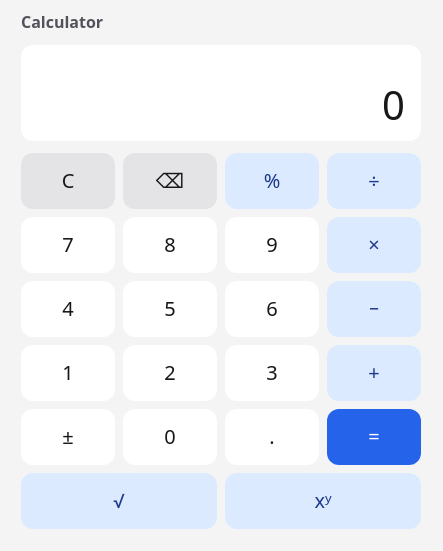
Scenario: App › keeps the pending operation across √: 9 + √16 = shows 13
The image size is (443, 551).
Click the button "9": (272, 245) x1=225 y1=217 x2=319 y2=273
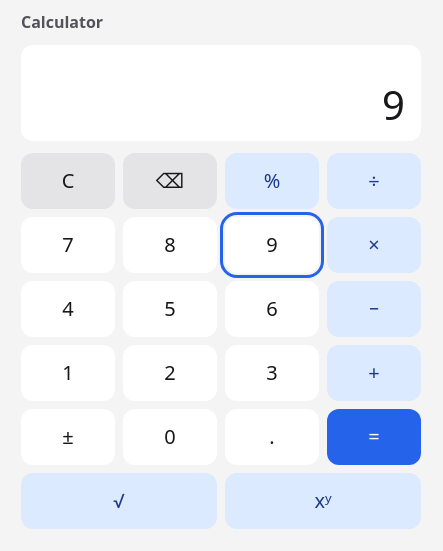
Click the button named "add": (374, 373) x1=327 y1=345 x2=421 y2=401
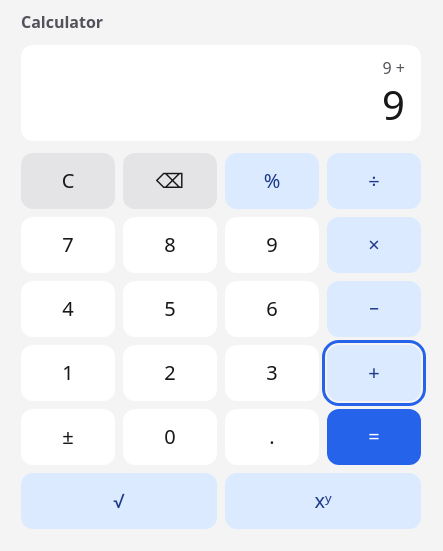
Click the button "1": (68, 373) x1=21 y1=345 x2=115 y2=401
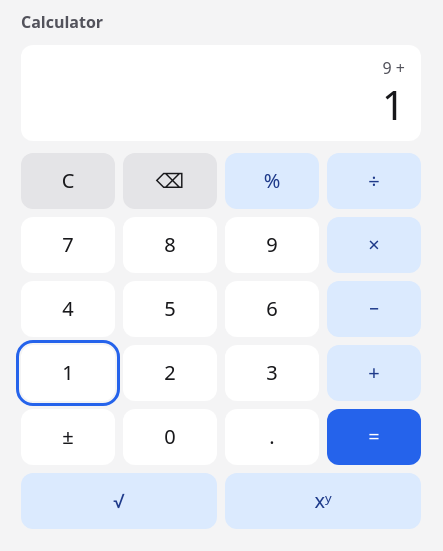
Click the button "6": (272, 309) x1=225 y1=281 x2=319 y2=337
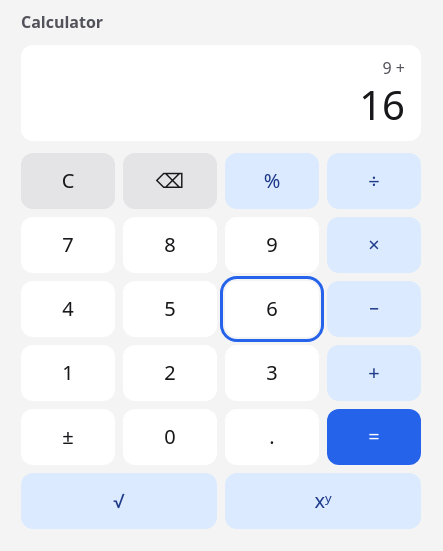
Click the button named "square root": (119, 501) x1=21 y1=473 x2=217 y2=529
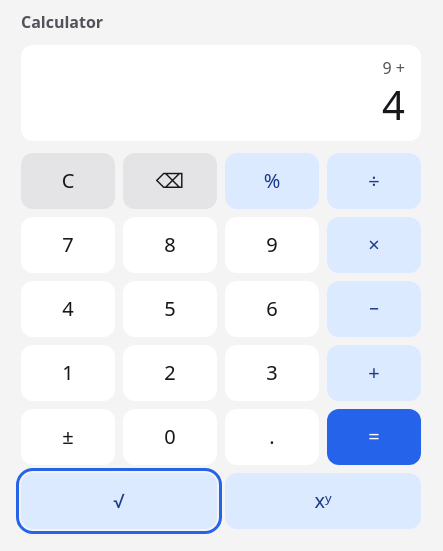
Result: the text with class "display__secondary" reads "9 +" at x1=382 y1=57 x2=405 y2=79
Result: the text with class "display__main" reads "4" at x1=382 y1=77 x2=405 y2=132
Click the button named "equals": (374, 437) x1=327 y1=409 x2=421 y2=465
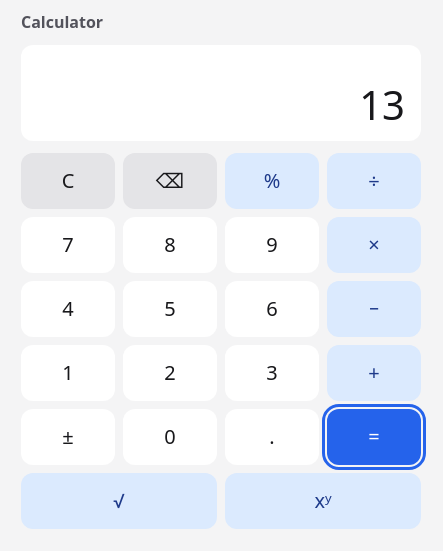
Result: the text with class "display__main" reads "13" at x1=359 y1=77 x2=405 y2=132
